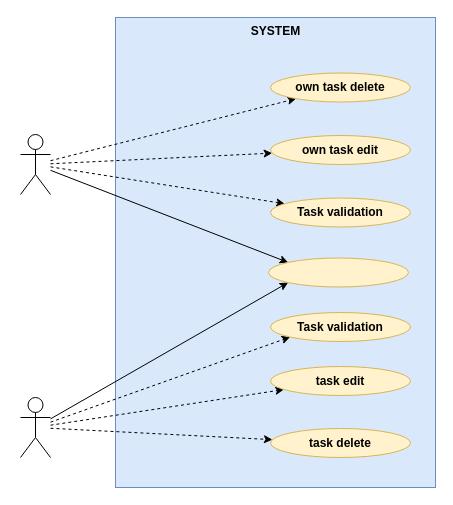
This 453x505 diagram has some shape labels left out. The box of each missing label's shape, as (x1, y1, x2, y2) in pixels:
Admin: (20, 396, 50, 458)
Task create: (268, 257, 408, 287)
User: (20, 134, 50, 194)
